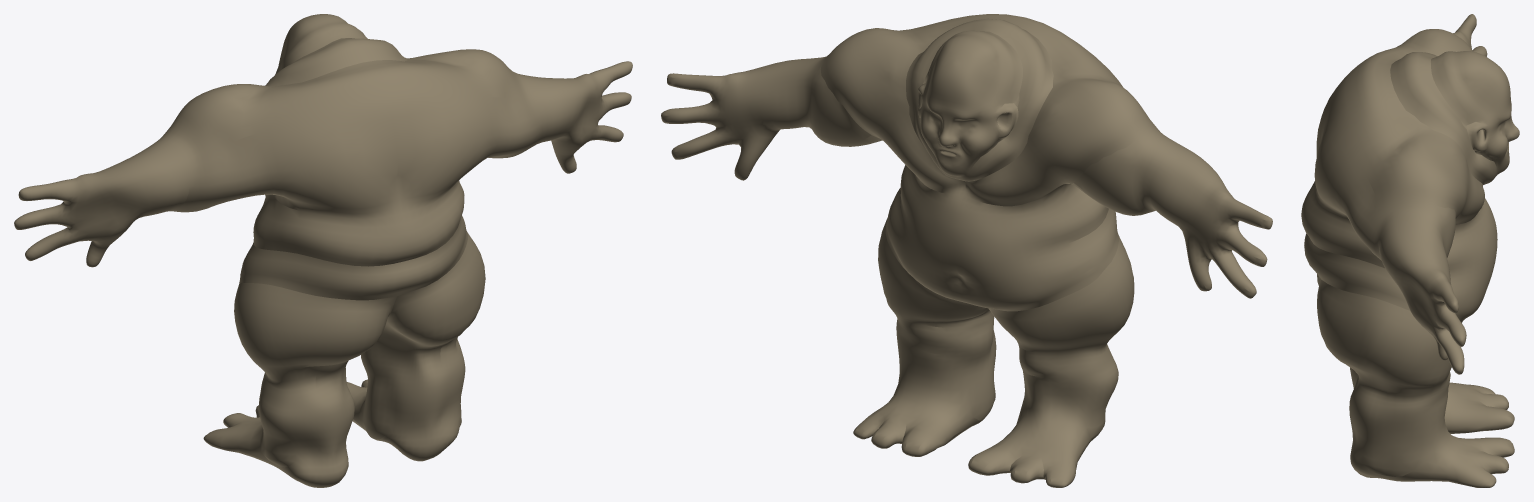
The model's file is fatty.glb.
The picture shows the model from 3 angles, left to right: view 1: azimuth 30°, elevation 25°; view 2: azimuth 150°, elevation 25°; view 3: azimuth 270°, elevation 25°; orthographic projection. The views are drawn at different scales.
Visible parts, largest first — view 1: fatty; view 2: fatty; view 3: fatty.
Part boxes in pixels (box(x1,y1,x2,y2)): fatty: box(14, 14, 632, 487); fatty: box(661, 14, 1272, 487); fatty: box(1301, 14, 1519, 487).
Bounding box in the file's own units: 1 × 0.6621 × 0.3279.
Materials: 1 (1 with a texture image).
